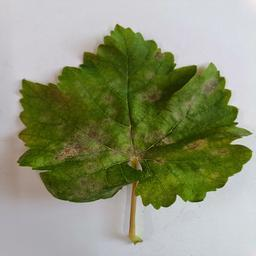Powdery-Mildew: (168, 73, 218, 124), (119, 128, 171, 168), (51, 127, 105, 160), (185, 133, 227, 160), (165, 168, 223, 187), (79, 163, 109, 195), (97, 90, 120, 125), (135, 87, 163, 114), (138, 68, 154, 85)
